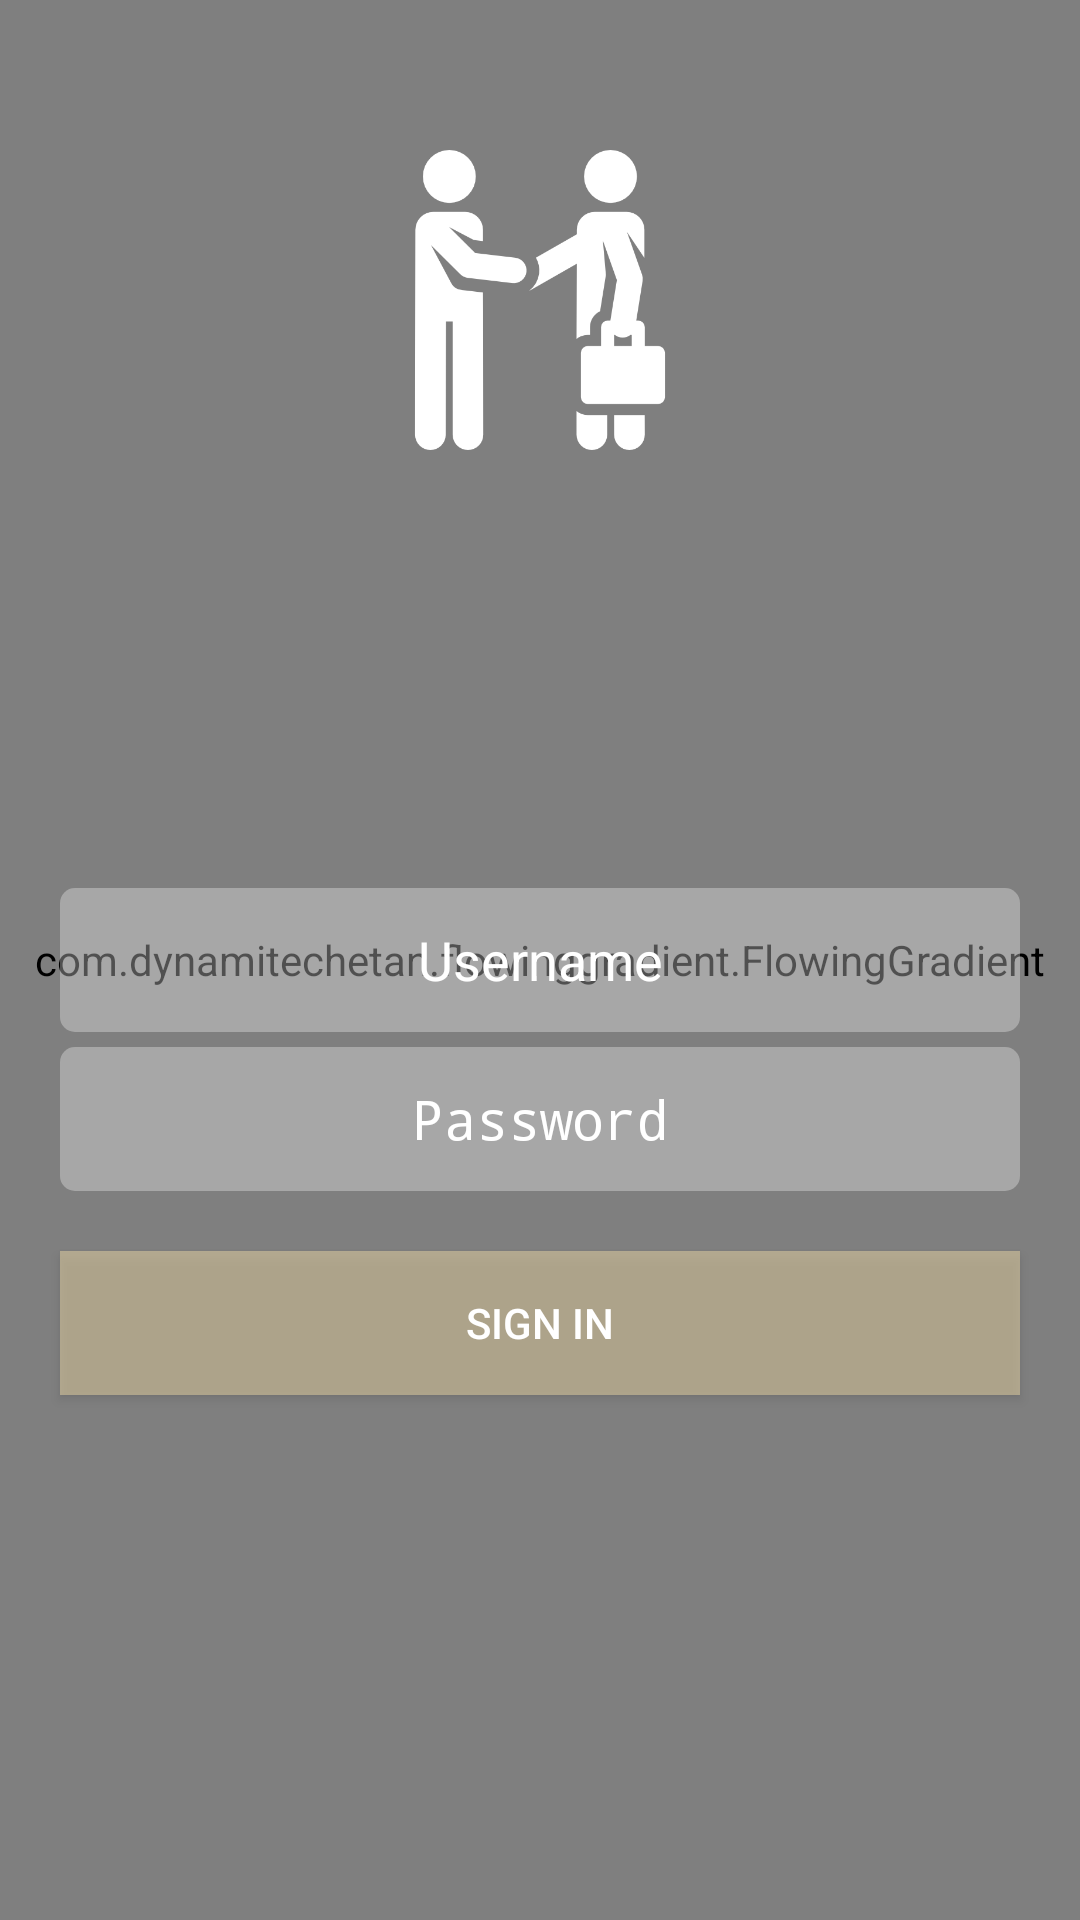

Where icons sit on this 1080 x 1920 app screen, as (x1, y1, x2, y2):
people: (415, 150, 665, 450)
